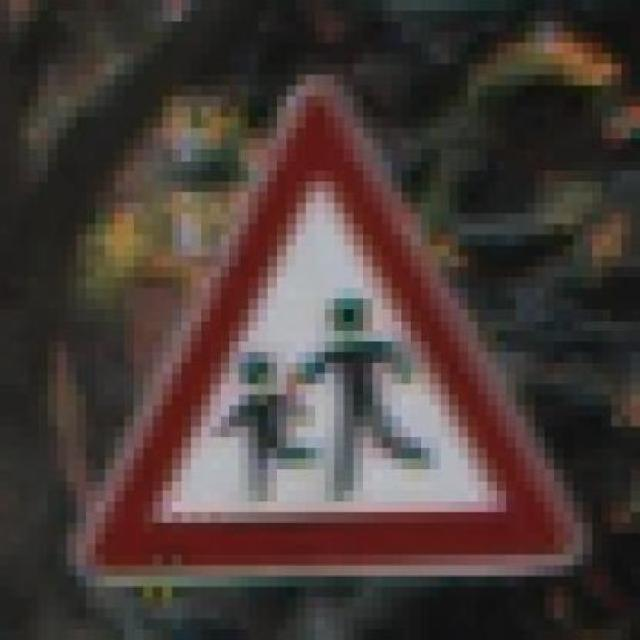Beware of children: (48, 64, 602, 587)
